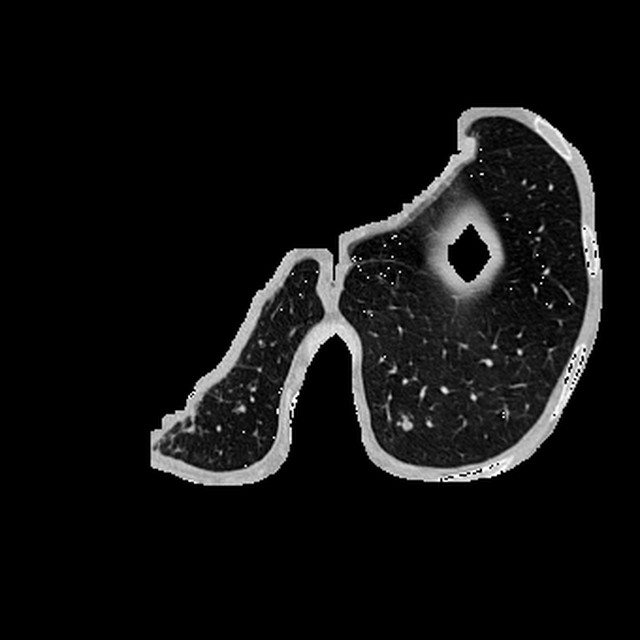PN: (403, 422, 410, 429)
